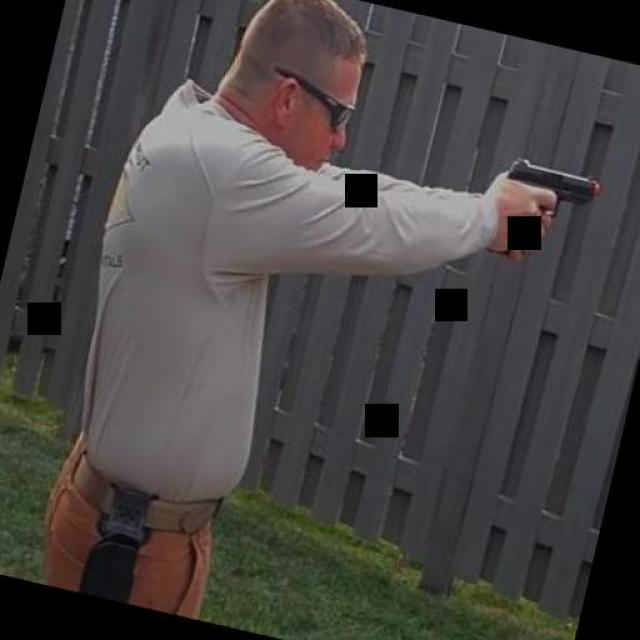gun: (473, 152, 605, 276)
